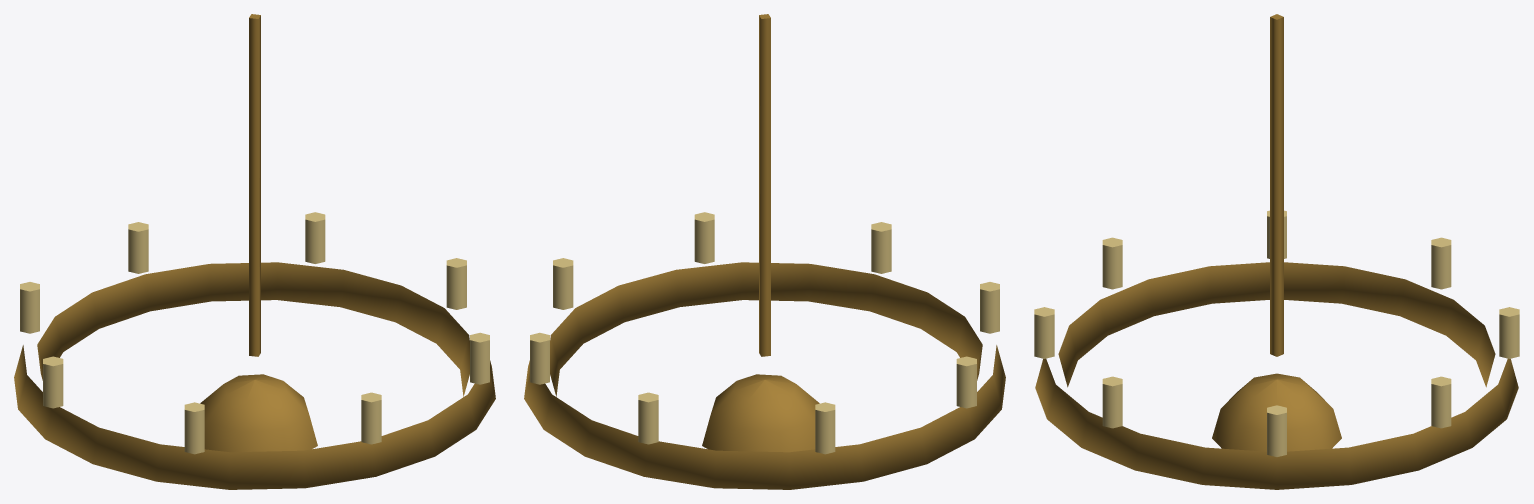
The model's file is palace_f_chandelier.glb.
The picture shows the model from 3 angles, left to right: view 1: azimuth 30°, elevation 25°; view 2: azimuth 150°, elevation 25°; view 3: azimuth 270°, elevation 25°; orthographic projection.
Visible parts, largest first — view 1: sw5e_int_palace_f_chandelier; view 2: sw5e_int_palace_f_chandelier; view 3: sw5e_int_palace_f_chandelier.
Boxes of the visible parts, x1=… form: sw5e_int_palace_f_chandelier: x1=14, y1=14, x2=495, y2=489; sw5e_int_palace_f_chandelier: x1=524, y1=14, x2=1005, y2=489; sw5e_int_palace_f_chandelier: x1=1034, y1=14, x2=1519, y2=489.
Bounding box in the file's own units: 1.05 × 1 × 1.04.
